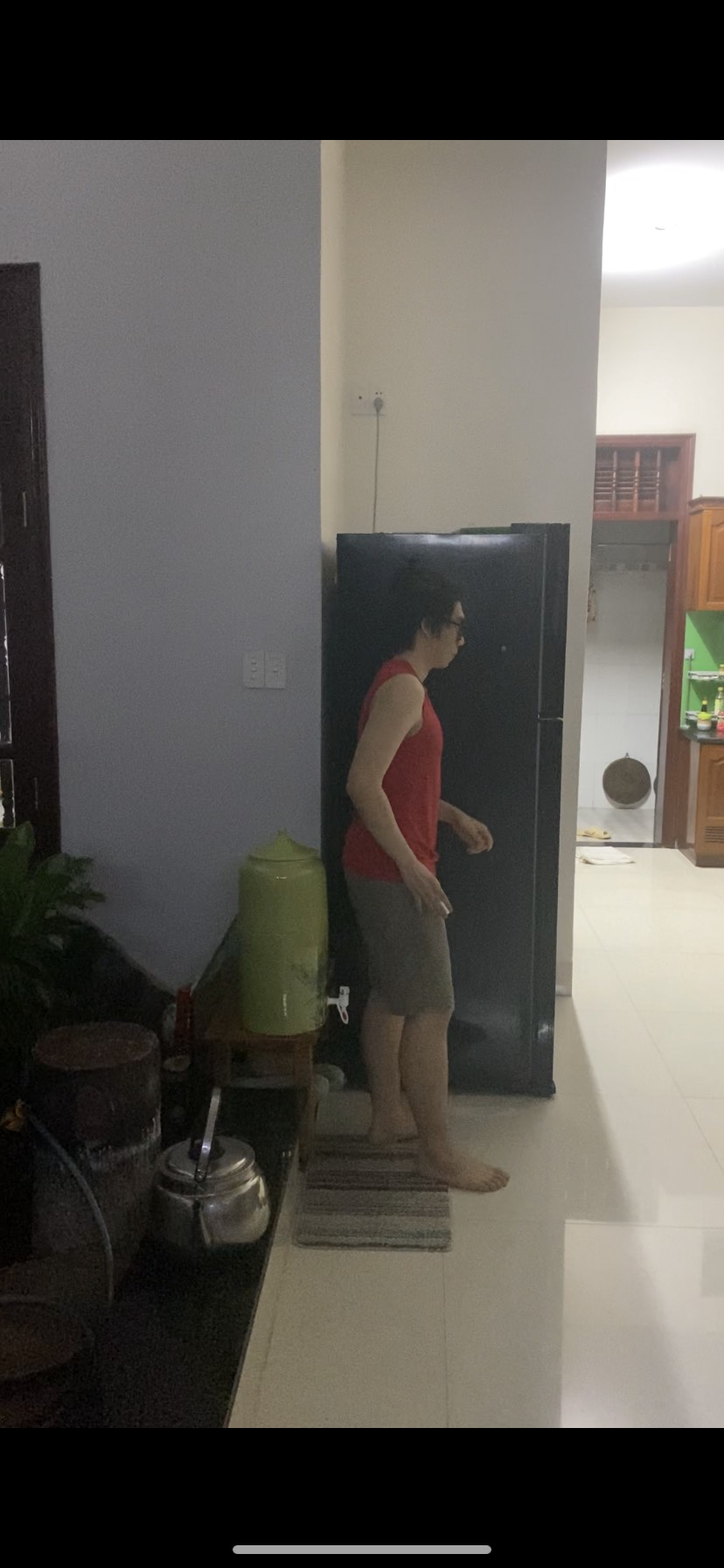cigarette: (438, 899, 451, 918)
person: (339, 590, 504, 1200)
